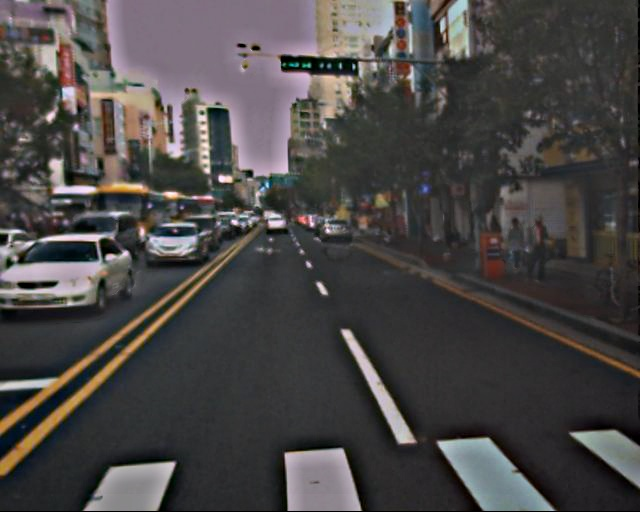person: (519, 215, 547, 283), (483, 216, 507, 274), (501, 218, 525, 276), (439, 209, 457, 254), (421, 209, 437, 247)
